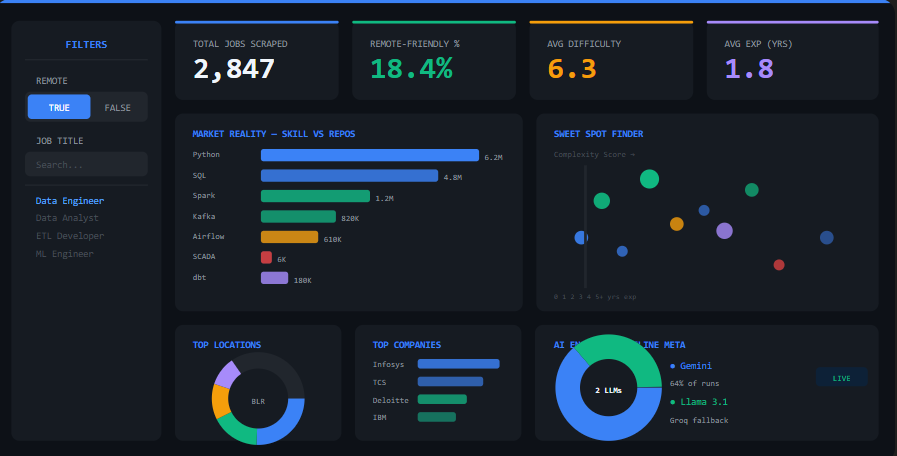

What the dashboard file says about the page in this screenshot:
{"tool":"powerbi","page":{"name":"Page 1","canvas":[1280,720],"ordinal":0},"visuals":[{"type":"shape","box":[16,66,231,624],"z":0},{"type":"shape","box":[265,66,237,148],"z":1000},{"type":"shape","box":[777,67,237,149],"z":2000},{"type":"shape","box":[1034,67,237,149],"z":3000},{"type":"shape","box":[521,66,237,149],"z":4000},{"type":"shape","box":[16,7,1255,51],"z":5000},{"type":"shape","box":[264,227,494,303],"z":6000},{"type":"shape","box":[777,227,494,303],"z":7000},{"type":"shape","box":[971,541,237,149],"z":8000},{"type":"shape","box":[659,542,237,149],"z":9000},{"type":"shape","box":[341,541,237,149],"z":10000},{"type":"advancedSlicerVisual","fields":{"Values":["gold_standard_jobs.Is_Remote"]},"box":[29.2,96.2,205.8,110],"z":11000},{"type":"advancedSlicerVisual","fields":{"Values":["gold_standard_jobs.Job_Title"]},"box":[29,260,206,349],"z":12000},{"type":"cardVisual","fields":{"Data":["CountNonNull(gold_standard_jobs.Job_Title)"]},"box":[241,45,286,194],"z":12001},{"type":"cardVisual","fields":{"Data":["gold_standard_jobs.Remote %"]},"box":[525,72,231,139],"z":12002},{"type":"cardVisual","fields":{"Data":["gold_standard_jobs.Avg Difficulty"]},"box":[783,71,231,139],"z":12003},{"type":"cardVisual","fields":{"Data":["gold_standard_jobs.Avg Experience (Yrs)"]},"box":[1040,72,231,139],"z":12004}]}

Visuals, with their boxes on the page's 1280x720 design canvas (x1, y1, x2, y2). These are canvas units, not pixel positions in the 897x456 screenshot, which may show the page scaled, cropped or inside an application window:
shape: 16 66 247 690
shape: 265 66 502 214
shape: 777 67 1014 216
shape: 1034 67 1271 216
shape: 521 66 758 215
shape: 16 7 1271 58
shape: 264 227 758 530
shape: 777 227 1271 530
shape: 971 541 1208 690
shape: 659 542 896 691
shape: 341 541 578 690
advancedSlicerVisual - gold_standard_jobs.Is_Remote: 29 96 235 206
advancedSlicerVisual - gold_standard_jobs.Job_Title: 29 260 235 609
cardVisual - CountNonNull(gold_standard_jobs.Job_Title): 241 45 527 239
cardVisual - gold_standard_jobs.Remote %: 525 72 756 211
cardVisual - gold_standard_jobs.Avg Difficulty: 783 71 1014 210
cardVisual - gold_standard_jobs.Avg Experience (Yrs): 1040 72 1271 211
